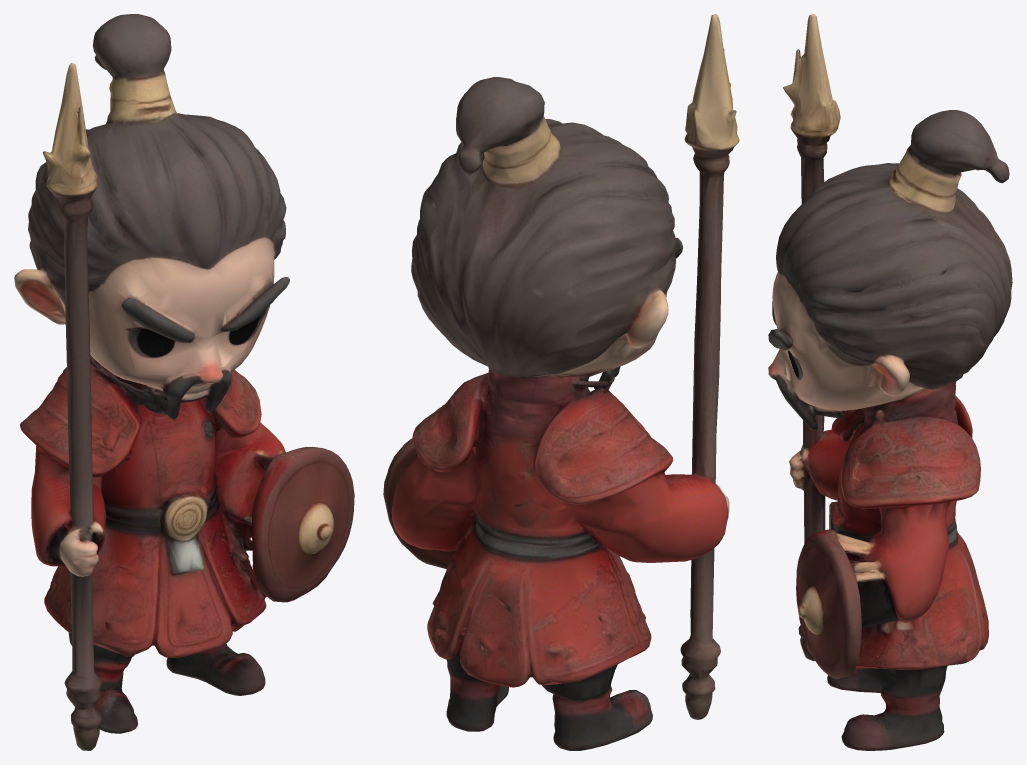
File: spear-guard.glb
3 views of the same model, side by side, from view 1: azimuth 30°, elevation 25°; view 2: azimuth 150°, elevation 25°; view 3: azimuth 270°, elevation 25° (orthographic). The views are drawn at different scales.
Bounding box in the file's own units: 0.9928 × 2 × 0.691.
Materials: 1 (1 with a texture image).
